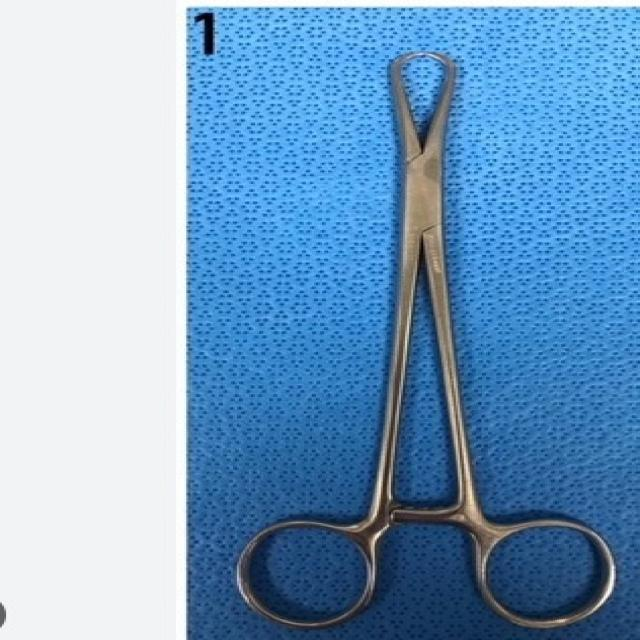Babcock Forceps: (236, 32, 622, 634)
